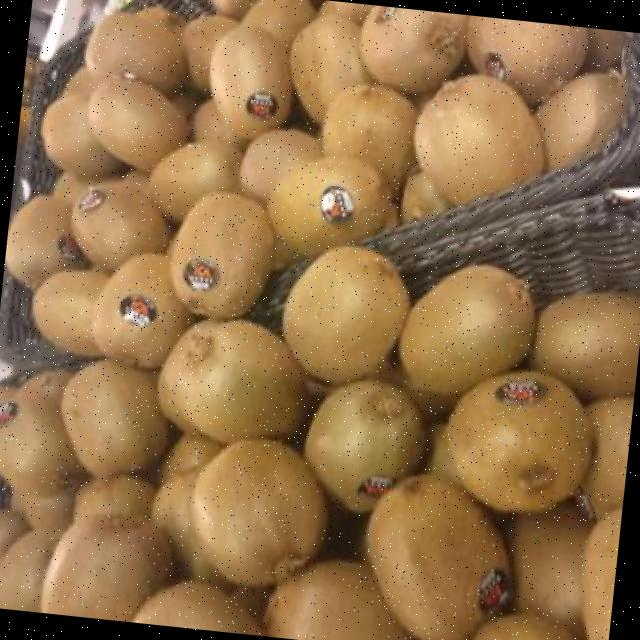kiwi: (368, 475, 510, 640), (446, 371, 592, 510), (191, 438, 327, 585), (157, 319, 308, 442), (400, 265, 535, 394), (283, 246, 409, 382), (413, 73, 544, 203), (303, 379, 425, 511), (40, 516, 175, 622), (170, 191, 275, 317), (170, 192, 275, 316), (267, 157, 394, 255), (62, 360, 168, 474), (264, 561, 416, 640), (91, 253, 194, 367), (532, 292, 640, 398), (504, 501, 592, 631), (466, 14, 588, 104), (0, 370, 85, 495), (321, 85, 416, 193), (361, 4, 467, 92), (152, 469, 231, 587), (88, 78, 189, 169), (211, 24, 292, 137), (85, 5, 187, 92), (534, 72, 625, 168), (291, 15, 371, 123), (73, 182, 170, 269), (5, 194, 88, 286), (149, 140, 241, 221), (131, 580, 264, 633), (41, 96, 122, 176), (32, 268, 108, 353), (582, 396, 633, 516), (241, 129, 321, 200), (0, 527, 62, 612), (584, 508, 621, 640), (182, 14, 238, 90), (73, 473, 155, 519), (241, 0, 315, 48), (473, 612, 580, 640), (160, 434, 222, 481), (195, 97, 247, 147), (10, 488, 74, 528), (401, 170, 451, 220), (53, 171, 98, 203), (0, 509, 28, 557), (61, 65, 100, 98), (213, 0, 256, 17)
